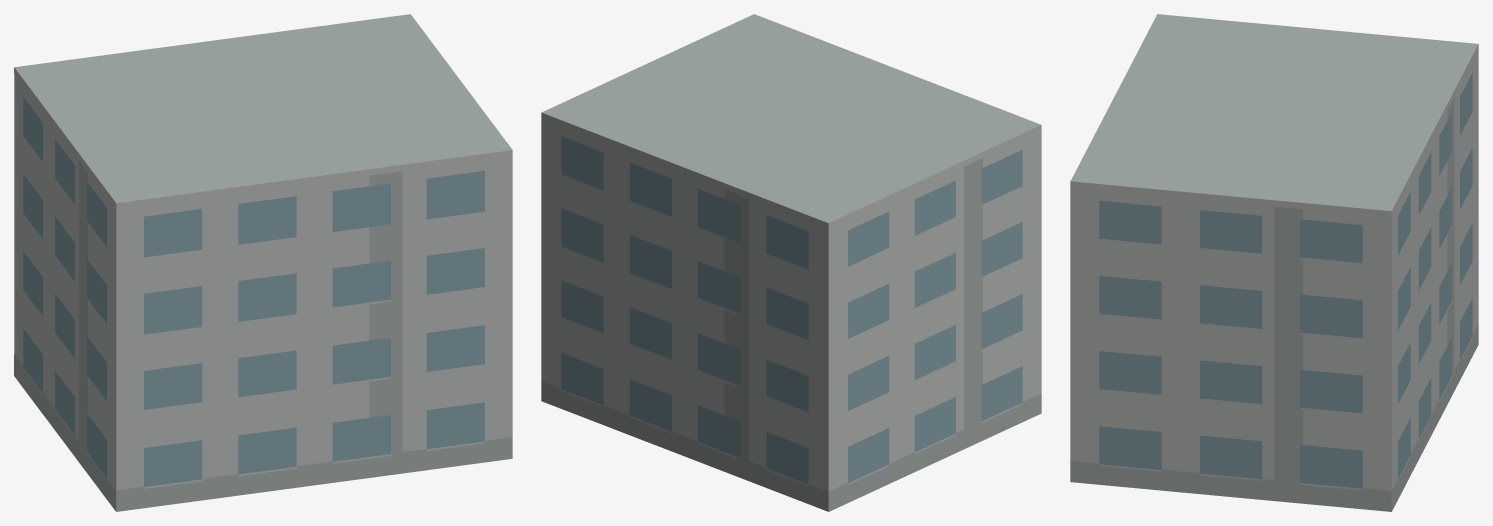
The model's file is residential-9953b1aa-2ce6-4ae0-abb7-1a00ffa158f6.glb.
3 renders of one model, left to right at view 1: azimuth 30°, elevation 25°; view 2: azimuth 150°, elevation 25°; view 3: azimuth 270°, elevation 25°, orthographic. The views are drawn at different scales.
Visible parts, largest first — view 1: residential-9953b1aa-2ce6-4ae0-abb7-1a00ffa158f6.tmp; view 2: residential-9953b1aa-2ce6-4ae0-abb7-1a00ffa158f6.tmp; view 3: residential-9953b1aa-2ce6-4ae0-abb7-1a00ffa158f6.tmp.
Boxes of the visible parts, bbox=[...] form: residential-9953b1aa-2ce6-4ae0-abb7-1a00ffa158f6.tmp: bbox=[14, 14, 512, 511]; residential-9953b1aa-2ce6-4ae0-abb7-1a00ffa158f6.tmp: bbox=[541, 14, 1041, 511]; residential-9953b1aa-2ce6-4ae0-abb7-1a00ffa158f6.tmp: bbox=[1070, 14, 1478, 511].
Size of the model in its own units: 16.39 by 11.65 by 14.34.
